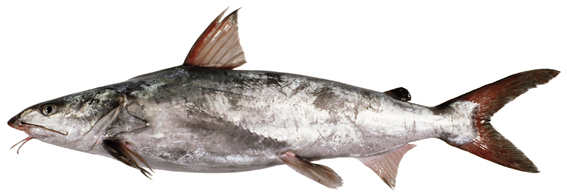fish: (7, 7, 562, 190)
